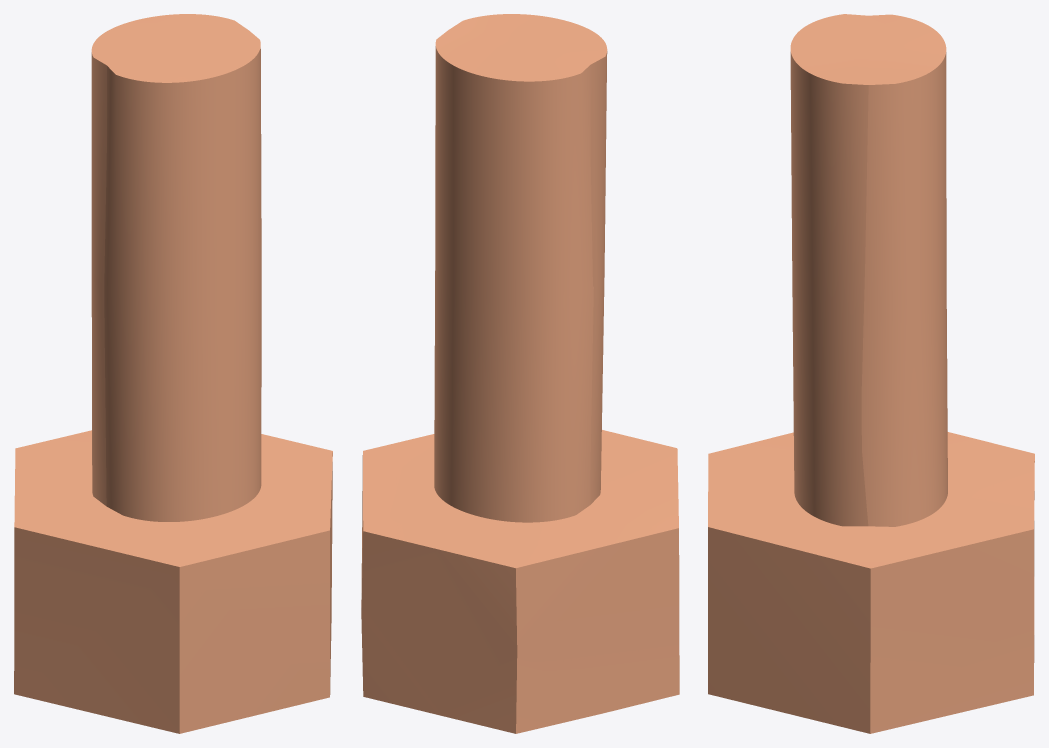
The model's file is sample_04_output.obj.
3 renders of one model, left to right at view 1: azimuth 30°, elevation 25°; view 2: azimuth 150°, elevation 25°; view 3: azimuth 270°, elevation 25°, orthographic.
Visible parts, largest first — view 1: mesh2, mesh7, mesh9, mesh3, mesh0, mesh1; view 2: mesh1, mesh10, mesh8, mesh3, mesh0, mesh2; view 3: mesh1, mesh2, mesh6, mesh4, mesh3, mesh0.
Part boxes in pixels (bbox=[...]): mesh2: bbox=[104, 48, 261, 521]; mesh7: bbox=[14, 527, 179, 733]; mesh9: bbox=[179, 530, 329, 733]; mesh3: bbox=[14, 430, 332, 566]; mesh0: bbox=[91, 14, 260, 82]; mesh1: bbox=[91, 52, 106, 506]; mesh1: bbox=[434, 46, 593, 522]; mesh10: bbox=[516, 528, 679, 733]; mesh8: bbox=[361, 531, 517, 733]; mesh3: bbox=[363, 430, 678, 568]; mesh0: bbox=[435, 14, 607, 81]; mesh2: bbox=[590, 51, 607, 504]; mesh1: bbox=[861, 52, 947, 526]; mesh2: bbox=[790, 52, 868, 526]; mesh6: bbox=[870, 529, 1034, 733]; mesh4: bbox=[708, 527, 870, 733]; mesh3: bbox=[708, 432, 1034, 568]; mesh0: bbox=[790, 14, 946, 84].
Size of the model in its own units: 0.000834 by 0.00153 by 0.000741.
